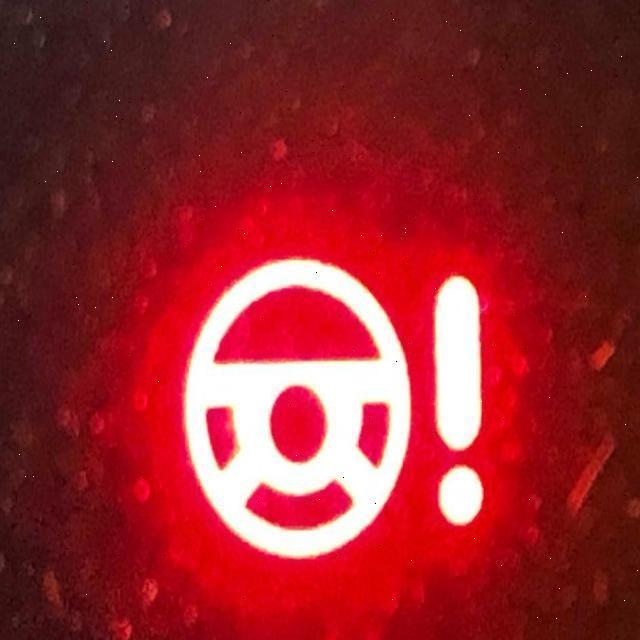Electronic Power Steering Warning: (184, 258, 480, 552)
